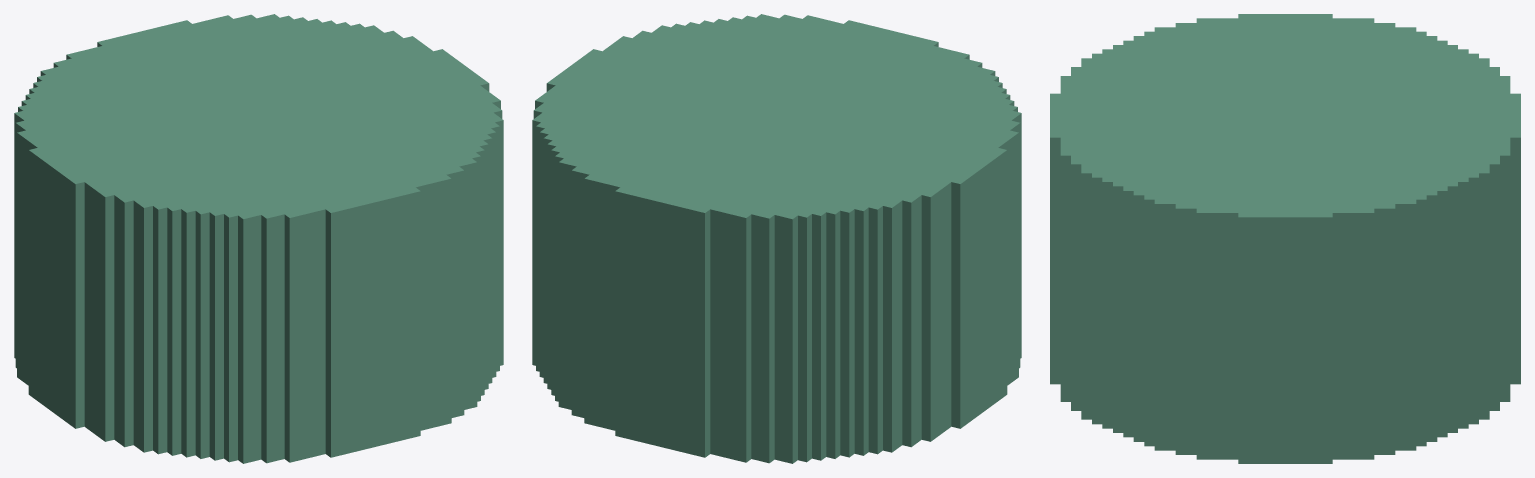
File: bocale-1.obj
The picture shows the model from 3 angles, left to right: view 1: azimuth 30°, elevation 25°; view 2: azimuth 150°, elevation 25°; view 3: azimuth 270°, elevation 25°; orthographic projection.
Size of the model in its own units: 4.6 by 2.6 by 4.5.
1 material, 1 textured.
